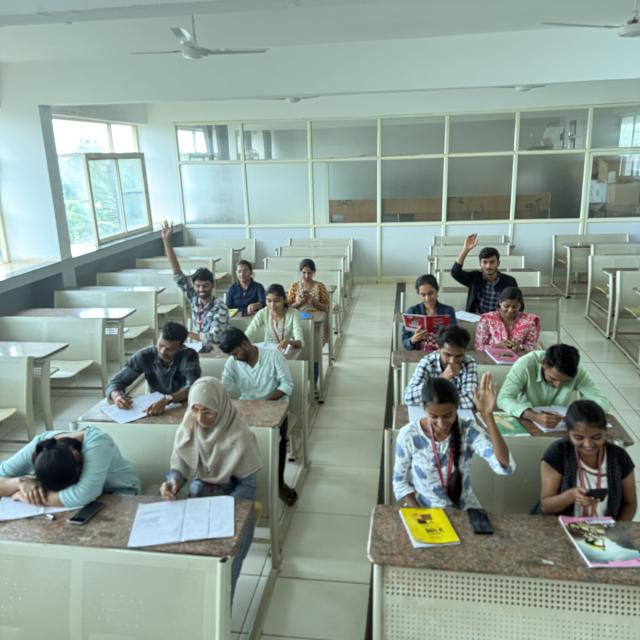Hand Rising: (399, 372, 518, 506), (153, 214, 231, 336), (449, 223, 519, 313)
Sleeping: (4, 419, 138, 516)
Using Phone: (539, 400, 640, 514), (399, 266, 465, 346), (474, 284, 545, 355), (278, 253, 328, 320)
Writing: (154, 382, 261, 539), (508, 340, 614, 432), (104, 321, 200, 419), (400, 328, 482, 418)
